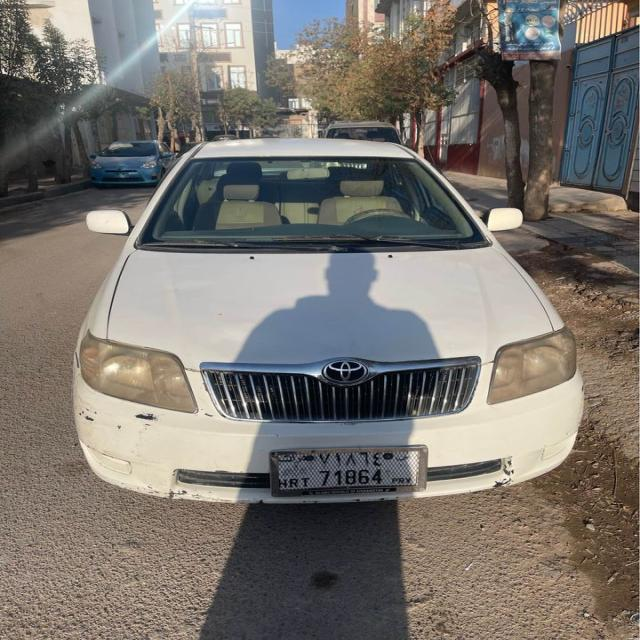Plate: (272, 443, 429, 492)
